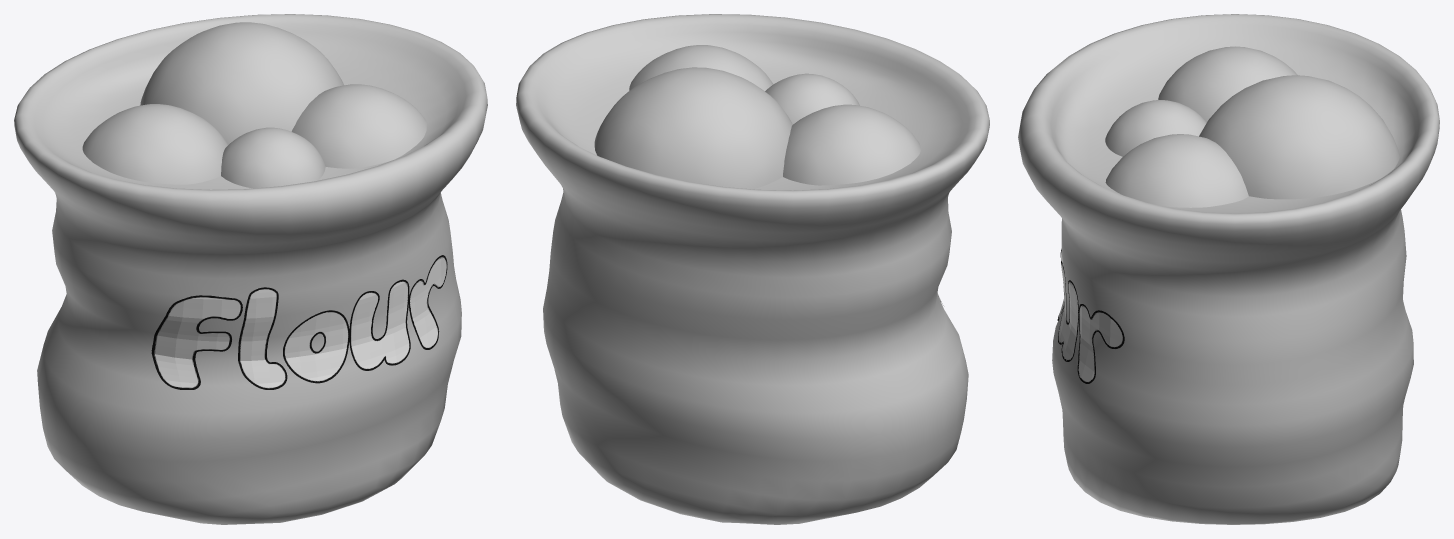
The model's file is flour.fbx.
3 views of the same model, side by side, from view 1: azimuth 30°, elevation 25°; view 2: azimuth 150°, elevation 25°; view 3: azimuth 270°, elevation 25° (orthographic).
Parts seen in each view (by area): view 1: Flour.001; view 2: Flour.001; view 3: Flour.001.
Boxes of the visible parts, bbox=[...] form: Flour.001: bbox=[14, 14, 487, 524]; Flour.001: bbox=[516, 14, 989, 524]; Flour.001: bbox=[1018, 14, 1439, 524].
Size of the model in its own units: 26.85 by 24.78 by 23.14.
